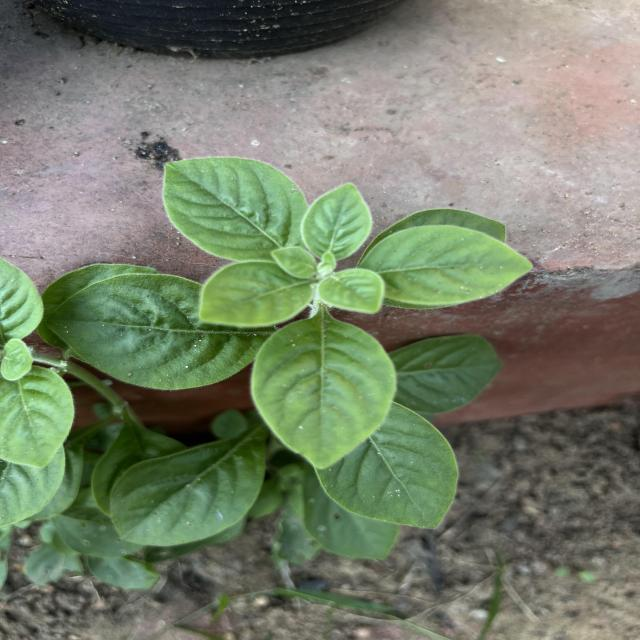Aerva lanata: (42, 270, 255, 392), (309, 398, 463, 534), (158, 153, 309, 264), (298, 178, 375, 270)
